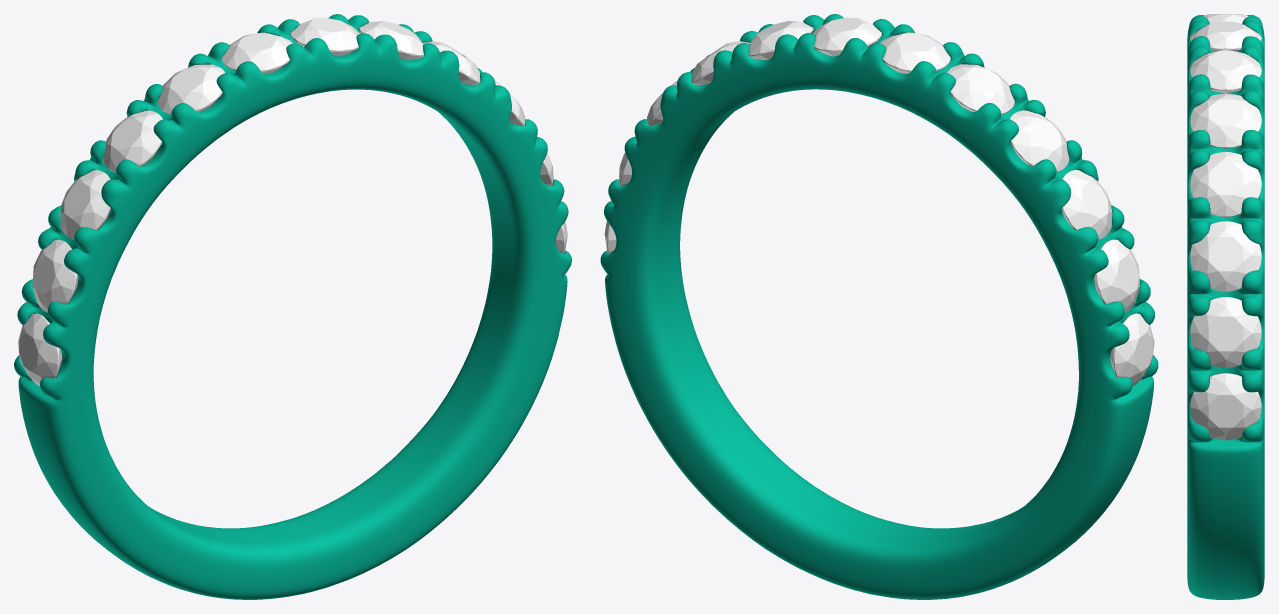
The model's file is BE2D1826_RENDER.glb.
3 views of the same model, side by side, from view 1: azimuth 30°, elevation 25°; view 2: azimuth 150°, elevation 25°; view 3: azimuth 270°, elevation 25° (orthographic). The views are drawn at different scales.
Visible parts, largest first — view 1: Metal03, Diamond_Round_Gem_BD.008, Diamond_Round_Gem_BD.007, Diamond_Round_Gem_BD.010, Diamond_Round_Gem_BD.006, Diamond_Round_Gem_BD.011, Diamond_Round_Gem_BD.009, Diamond_Round_Gem_BD.002, Diamond_Round_Gem_BD.001; view 2: Metal03, Diamond_Round_Gem_BD.008, Diamond_Round_Gem_BD.007, Diamond_Round_Gem_BD.010, Diamond_Round_Gem_BD.006, Diamond_Round_Gem_BD.011, Diamond_Round_Gem_BD.009, Diamond_Round_Gem_BD.002, Diamond_Round_Gem_BD.001; view 3: Metal03, Diamond_Round_Gem_BD.005, Diamond_Round_Gem_BD.004, Diamond_Round_Gem_BD, Diamond_Round_Gem_BD.003, Diamond_Round_Gem_BD.001, Diamond_Round_Gem_BD.002, Diamond_Round_Gem_BD.009, Diamond_Round_Gem_BD.010.
Part boxes in pixels (bbox=[...]): Metal03: bbox=[14, 14, 571, 599]; Diamond_Round_Gem_BD.008: bbox=[103, 110, 162, 172]; Diamond_Round_Gem_BD.007: bbox=[60, 170, 110, 239]; Diamond_Round_Gem_BD.010: bbox=[157, 64, 224, 114]; Diamond_Round_Gem_BD.006: bbox=[32, 239, 78, 312]; Diamond_Round_Gem_BD.011: bbox=[18, 313, 62, 385]; Diamond_Round_Gem_BD.009: bbox=[221, 32, 292, 73]; Diamond_Round_Gem_BD.002: bbox=[290, 17, 359, 56]; Diamond_Round_Gem_BD.001: bbox=[358, 21, 423, 60]; Metal03: bbox=[600, 14, 1158, 599]; Diamond_Round_Gem_BD.008: bbox=[1009, 110, 1069, 171]; Diamond_Round_Gem_BD.007: bbox=[1061, 170, 1112, 239]; Diamond_Round_Gem_BD.010: bbox=[947, 64, 1014, 114]; Diamond_Round_Gem_BD.006: bbox=[1094, 239, 1140, 312]; Diamond_Round_Gem_BD.011: bbox=[1110, 313, 1154, 385]; Diamond_Round_Gem_BD.009: bbox=[880, 32, 950, 73]; Diamond_Round_Gem_BD.002: bbox=[812, 17, 881, 56]; Diamond_Round_Gem_BD.001: bbox=[748, 20, 813, 59]; Metal03: bbox=[1187, 15, 1264, 599]; Diamond_Round_Gem_BD.005: bbox=[1190, 297, 1261, 367]; Diamond_Round_Gem_BD.004: bbox=[1190, 221, 1261, 291]; Diamond_Round_Gem_BD: bbox=[1190, 373, 1261, 440]; Diamond_Round_Gem_BD.003: bbox=[1190, 152, 1261, 217]; Diamond_Round_Gem_BD.001: bbox=[1190, 93, 1261, 148]; Diamond_Round_Gem_BD.002: bbox=[1190, 49, 1261, 93]; Diamond_Round_Gem_BD.009: bbox=[1190, 21, 1261, 51]; Diamond_Round_Gem_BD.010: bbox=[1203, 14, 1248, 23].
Size of the model in its own units: 20.67 by 20.56 by 2.71.
